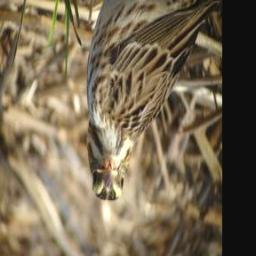Sparrow: (84, 0, 220, 204)
